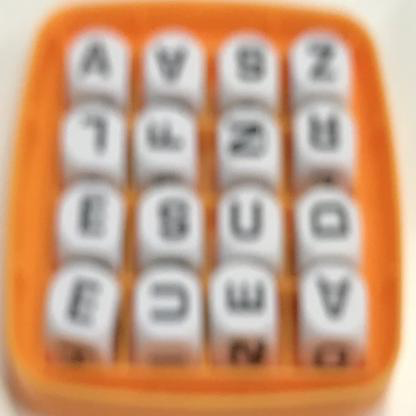a: (304, 265, 368, 332), (148, 32, 200, 97)
b: (226, 33, 275, 105)
d: (300, 190, 360, 254)
e: (62, 176, 123, 258), (51, 271, 111, 347), (212, 266, 275, 328)
f: (136, 107, 196, 169)
l: (63, 105, 124, 163)
n: (216, 111, 278, 179)
r: (295, 103, 353, 158)
s: (137, 184, 199, 251)
u: (136, 266, 198, 334), (216, 190, 274, 243)
v: (64, 25, 131, 95)
z: (298, 31, 350, 97)
